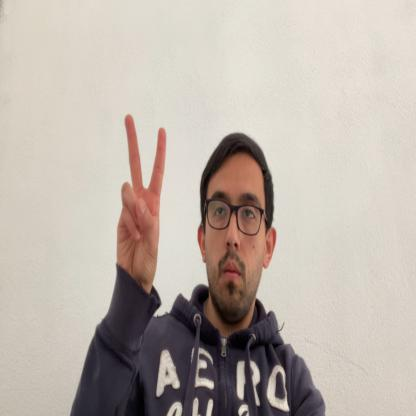V: (116, 115, 168, 297)
